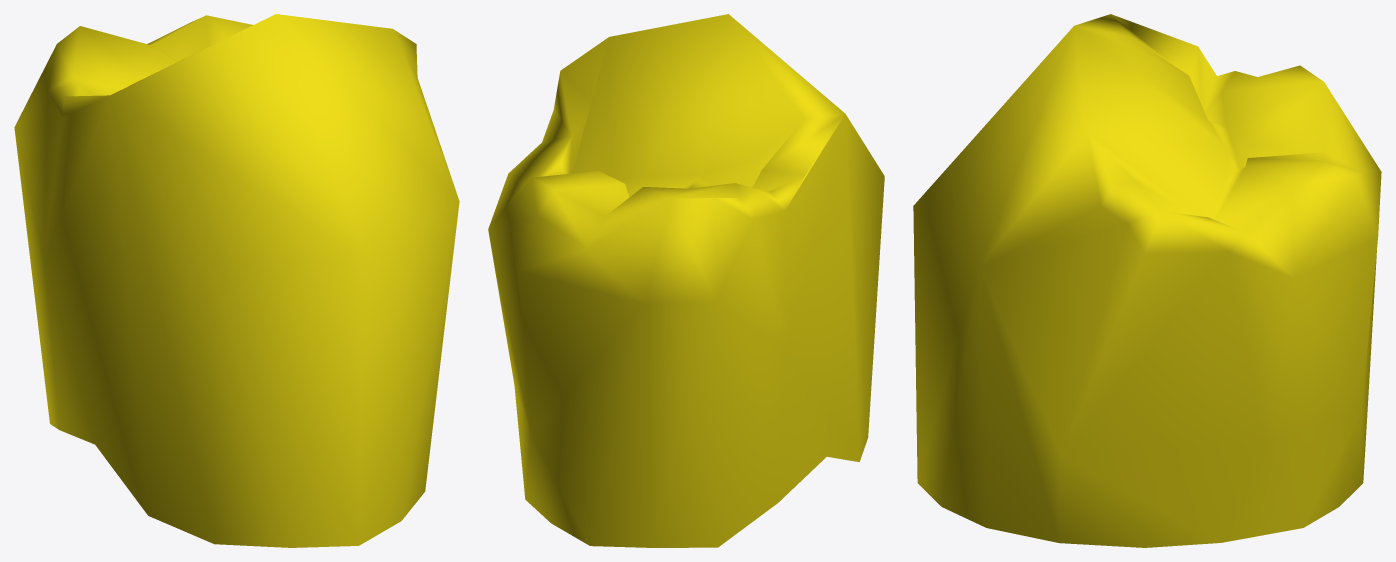
The model's file is D35N_NUC.obj.
The picture shows the model from 3 angles, left to right: view 1: azimuth 30°, elevation 25°; view 2: azimuth 150°, elevation 25°; view 3: azimuth 270°, elevation 25°; orthographic projection. The views are drawn at different scales.
Visible parts, largest first — view 1: D35N_NUC; view 2: D35N_NUC; view 3: D35N_NUC.
Part boxes in pixels (x1=…): D35N_NUC: x1=14, y1=14, x2=459, y2=547; D35N_NUC: x1=488, y1=14, x2=884, y2=547; D35N_NUC: x1=913, y1=14, x2=1381, y2=547.
Bounding box in the file's own units: 3.89 × 5.57 × 5.18.
